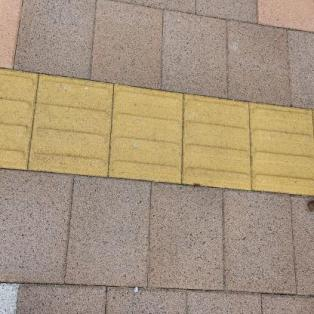Podoctatil: (0, 61, 313, 203)
